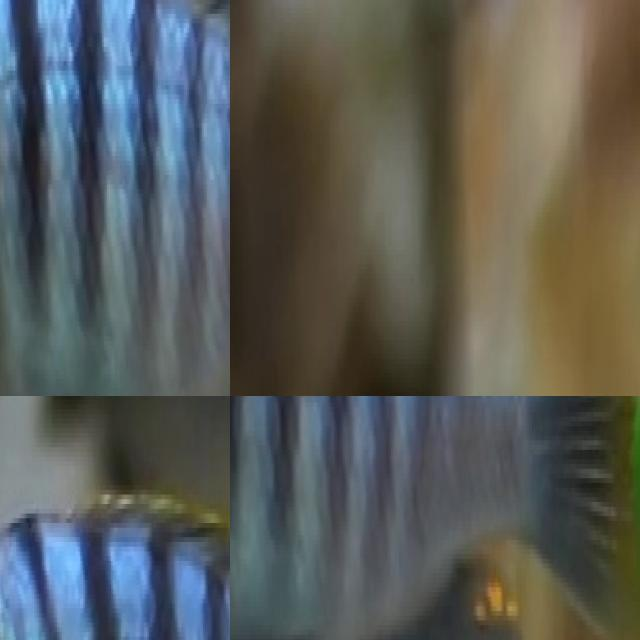fish: (230, 396, 640, 640), (0, 0, 230, 396), (0, 475, 230, 640)
